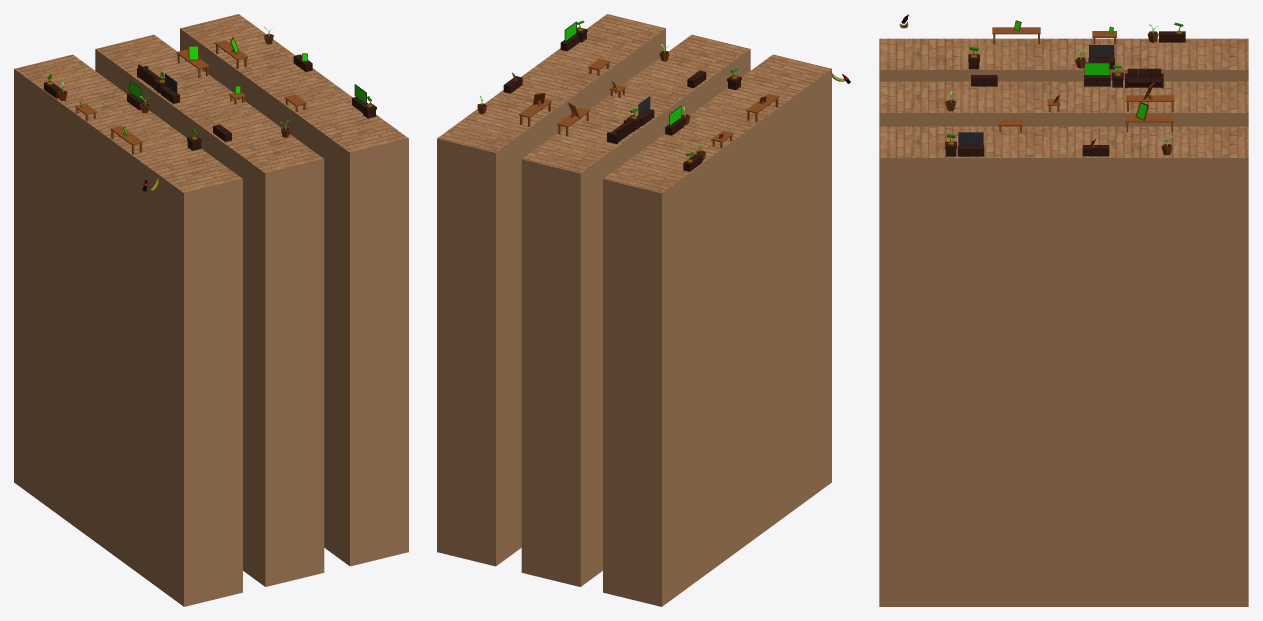
The model's file is stage1_5.glb.
The picture shows the model from 3 angles, left to right: view 1: azimuth 30°, elevation 25°; view 2: azimuth 150°, elevation 25°; view 3: azimuth 270°, elevation 25°; orthographic projection. The views are drawn at different scales.
Parts seen in each view (by area): view 1: $Road1, $Road3, $Road2; view 2: $Road1, $Road3, $Road2; view 3: $Road3, $Road2, $Road1, sofa1.
Boxes of the visible parts, bbox=[...] form: $Road1: bbox=[14, 54, 242, 606]; $Road3: bbox=[180, 14, 408, 566]; $Road2: bbox=[95, 34, 324, 586]; $Road1: bbox=[603, 54, 831, 606]; $Road3: bbox=[437, 14, 665, 566]; $Road2: bbox=[521, 34, 750, 586]; $Road3: bbox=[879, 126, 1248, 606]; $Road2: bbox=[879, 81, 1248, 126]; $Road1: bbox=[879, 38, 1248, 81]; sofa1: bbox=[1125, 68, 1163, 88].
Bounding box in the file's own units: 25.92 × 42.51 × 30.
16 materials, 1 textured.
